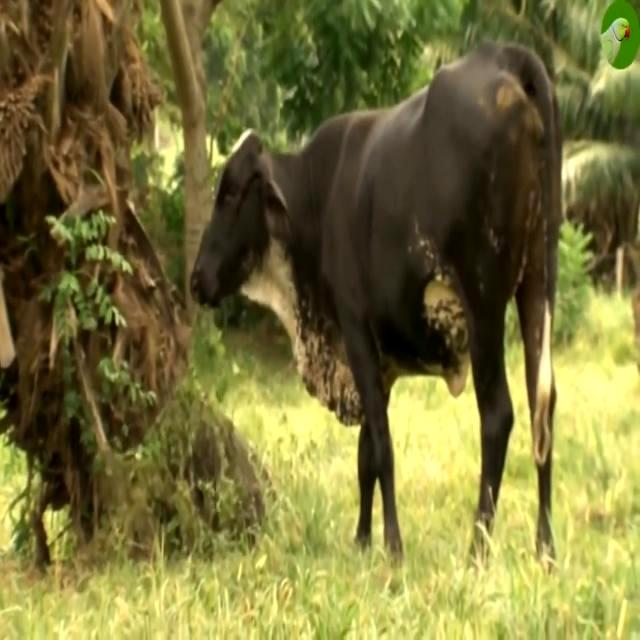COW: (192, 45, 560, 558)
